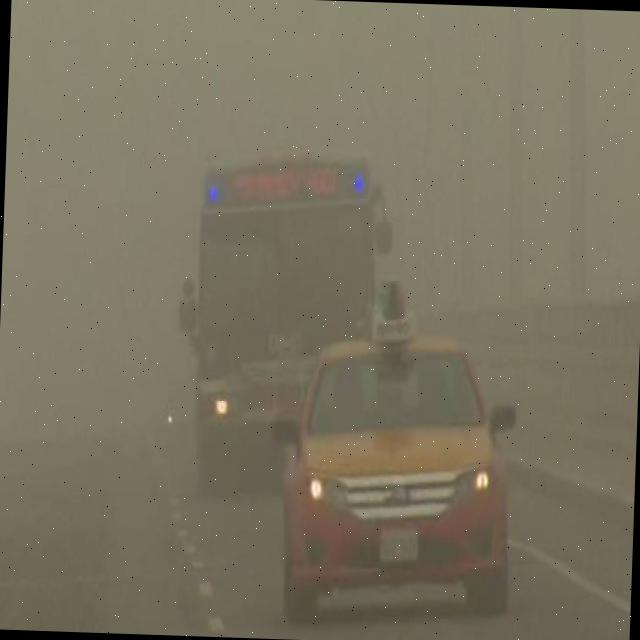car: (280, 324, 520, 626)
truck: (172, 140, 392, 494)
